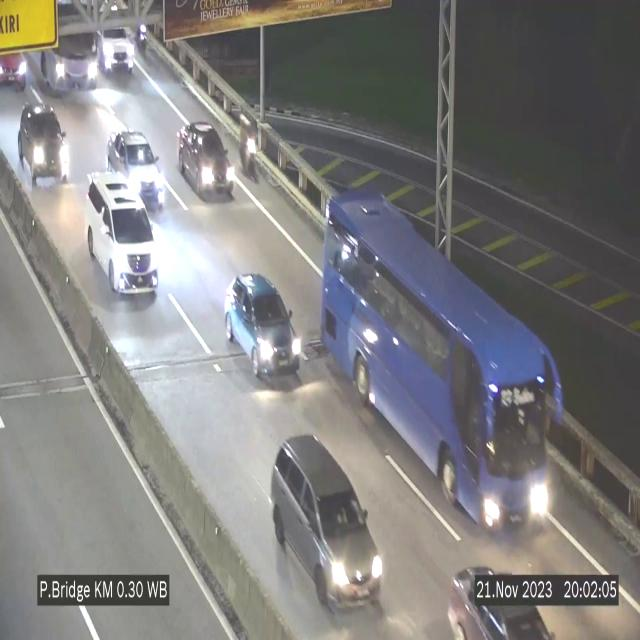Bus: (320, 194, 560, 538), (23, 0, 102, 98)
Car: (269, 431, 388, 614), (443, 546, 556, 640), (217, 270, 306, 382), (87, 170, 159, 298), (175, 115, 236, 202), (16, 98, 72, 186), (108, 129, 162, 203), (96, 7, 142, 92), (0, 22, 35, 108)
Motorcycle: (242, 111, 263, 193), (136, 13, 152, 65)
